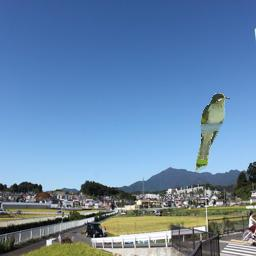Cuckoo: (195, 93, 230, 172)
